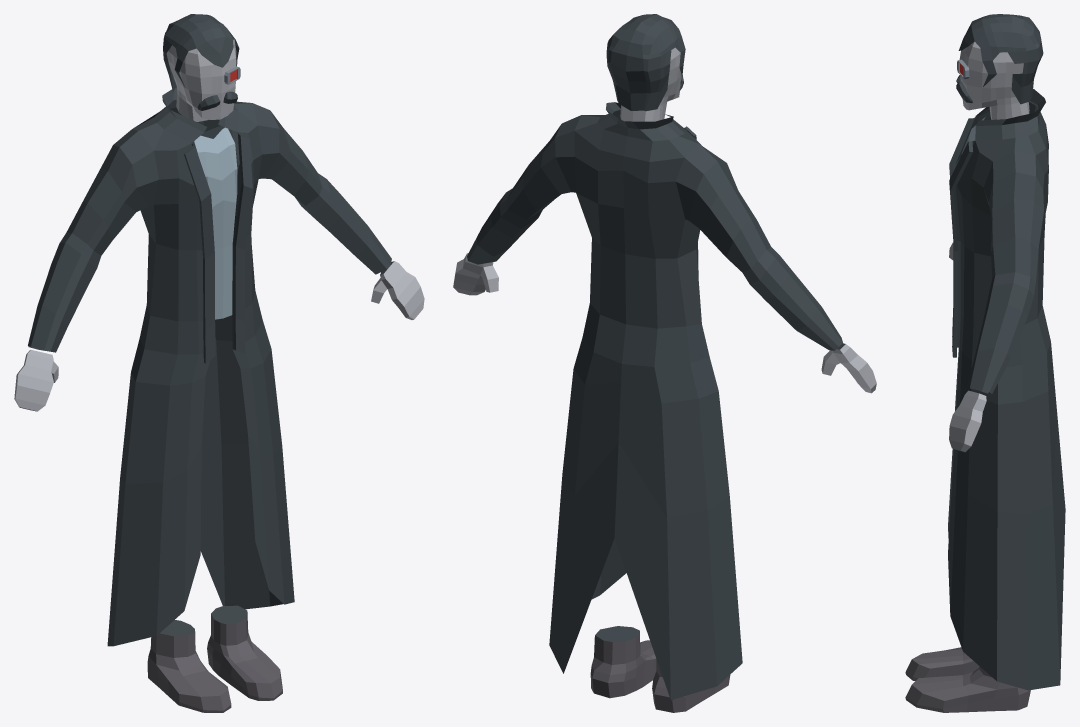
The model's file is pc_jack.fbx.
3 views of the same model, side by side, from view 1: azimuth 30°, elevation 25°; view 2: azimuth 150°, elevation 25°; view 3: azimuth 270°, elevation 25° (orthographic). The views are drawn at different scales.
Visible parts, largest first — view 1: jackmerge; view 2: jackmerge; view 3: jackmerge.
Part boxes in pixels (x1,y1,x2,y2): jackmerge: [14, 14, 424, 712]; jackmerge: [453, 14, 876, 712]; jackmerge: [905, 14, 1065, 712].
Size of the model in its own units: 131 by 201 by 43.31.
